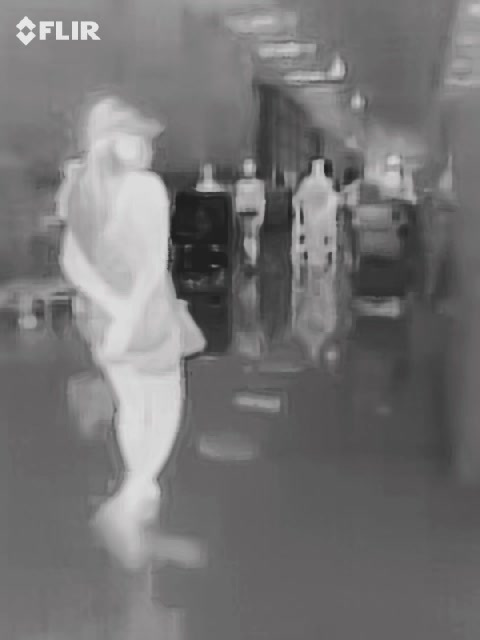head: (81, 95, 154, 169)
